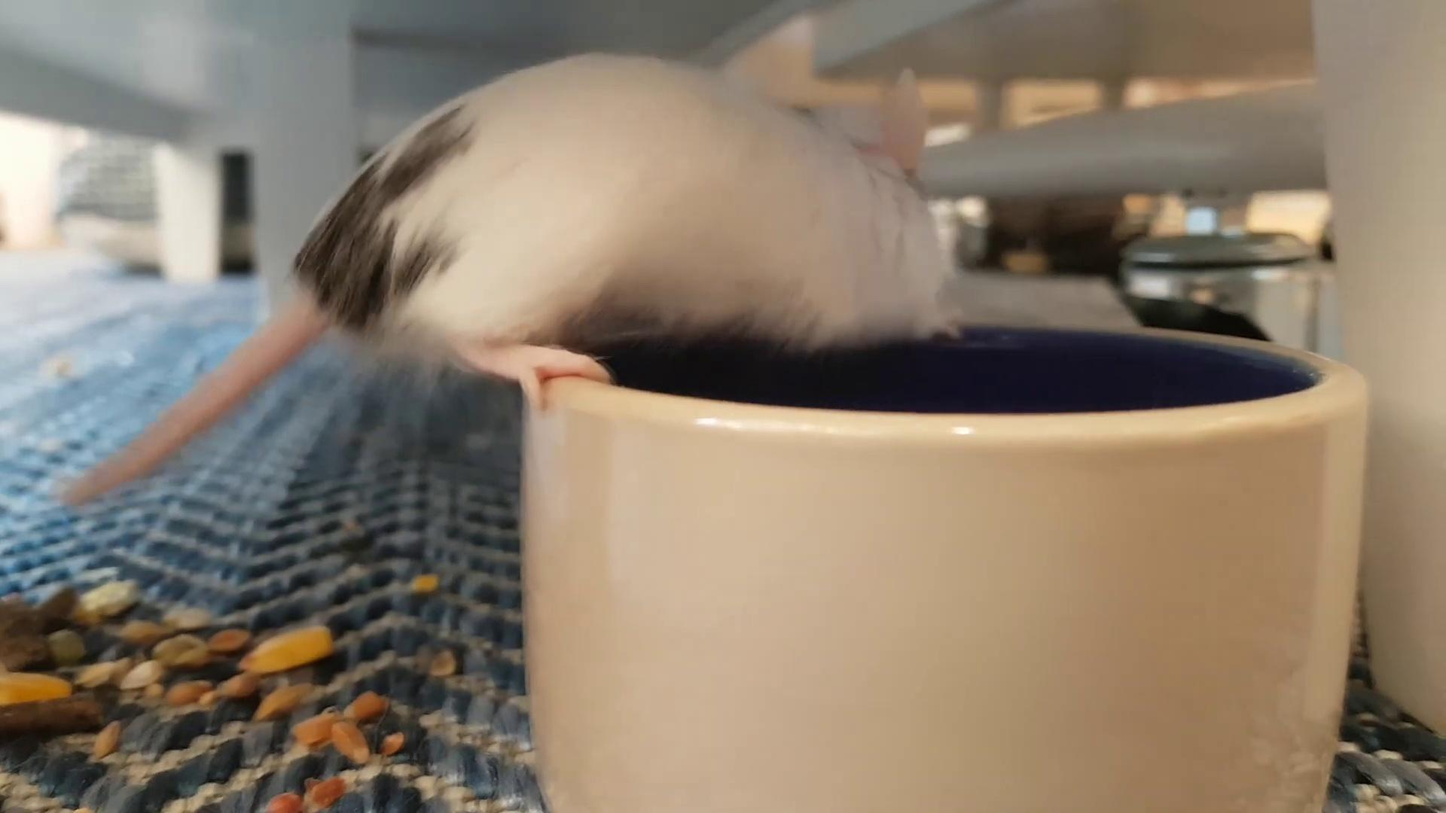rat: (61, 54, 963, 513)
